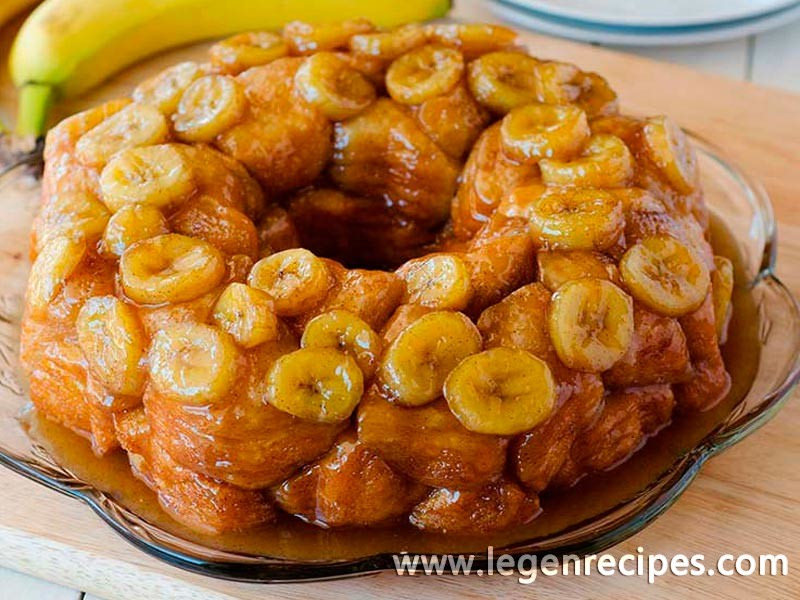meatballs: (152, 324, 318, 484)
